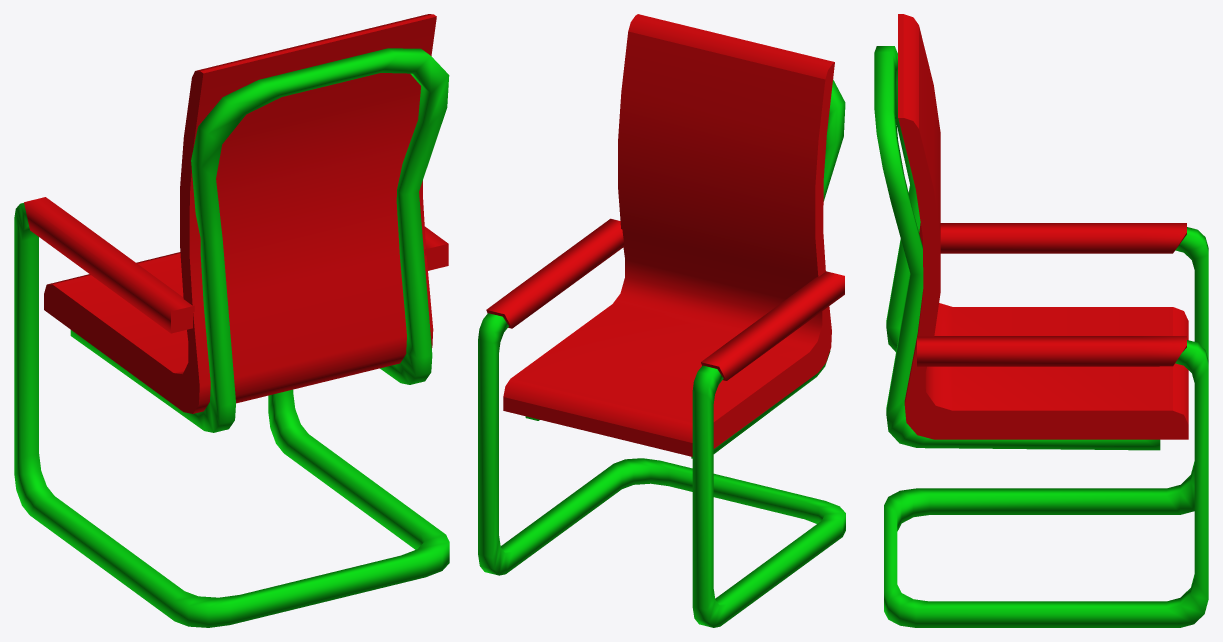
The model's file is стул.fbx.
The picture shows the model from 3 angles, left to right: view 1: azimuth 30°, elevation 25°; view 2: azimuth 150°, elevation 25°; view 3: azimuth 270°, elevation 25°; orthographic projection. The views are drawn at different scales.
Parts seen in each view (by area): view 1: Cube.007; view 2: Cube.007; view 3: Cube.007.
Boxes of the visible parts, <box> form: Cube.007: <box>14,14,449,627</box>; Cube.007: <box>478,14,845,627</box>; Cube.007: <box>874,14,1208,627</box>.
Size of the model in its own units: 2.39 by 4.51 by 2.72.
